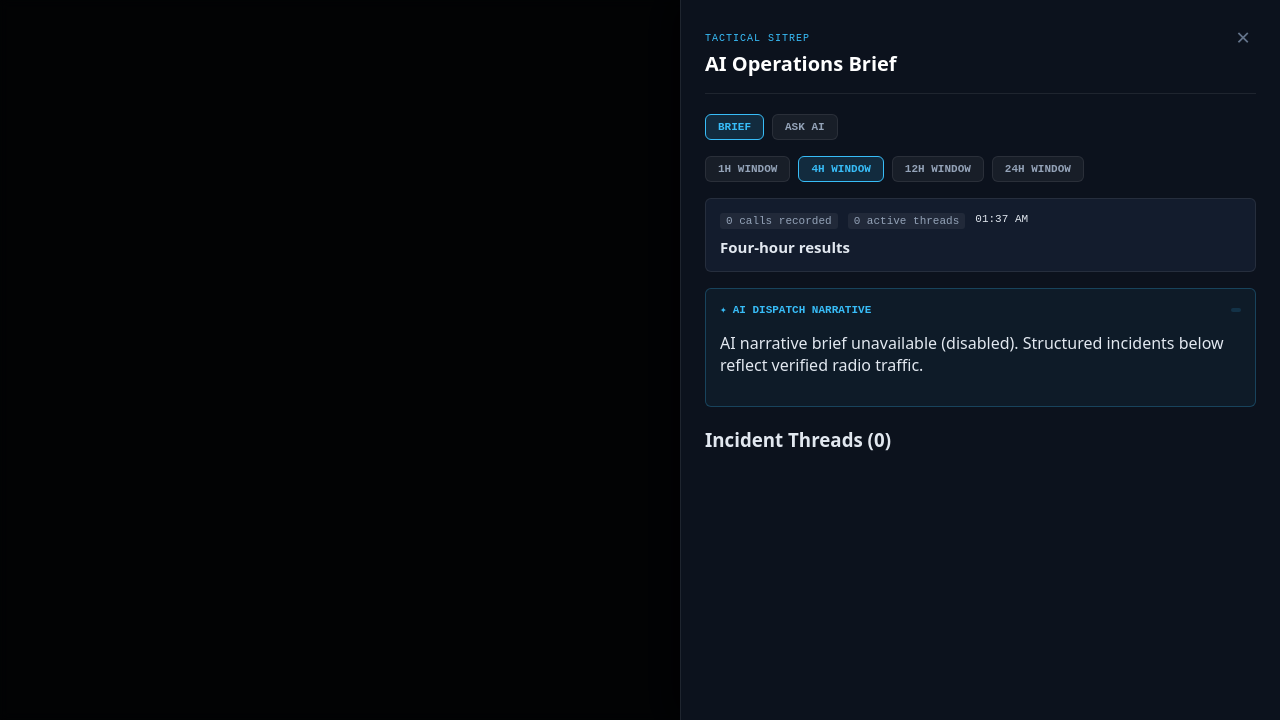
Test: clears the old brief when another window fails and allows retry
Expected: the text "Four-hour results" is shown, [720,237,850,257]
Step 1. Click the button "1H WINDOW" → (748, 169), box [705,156,790,182]
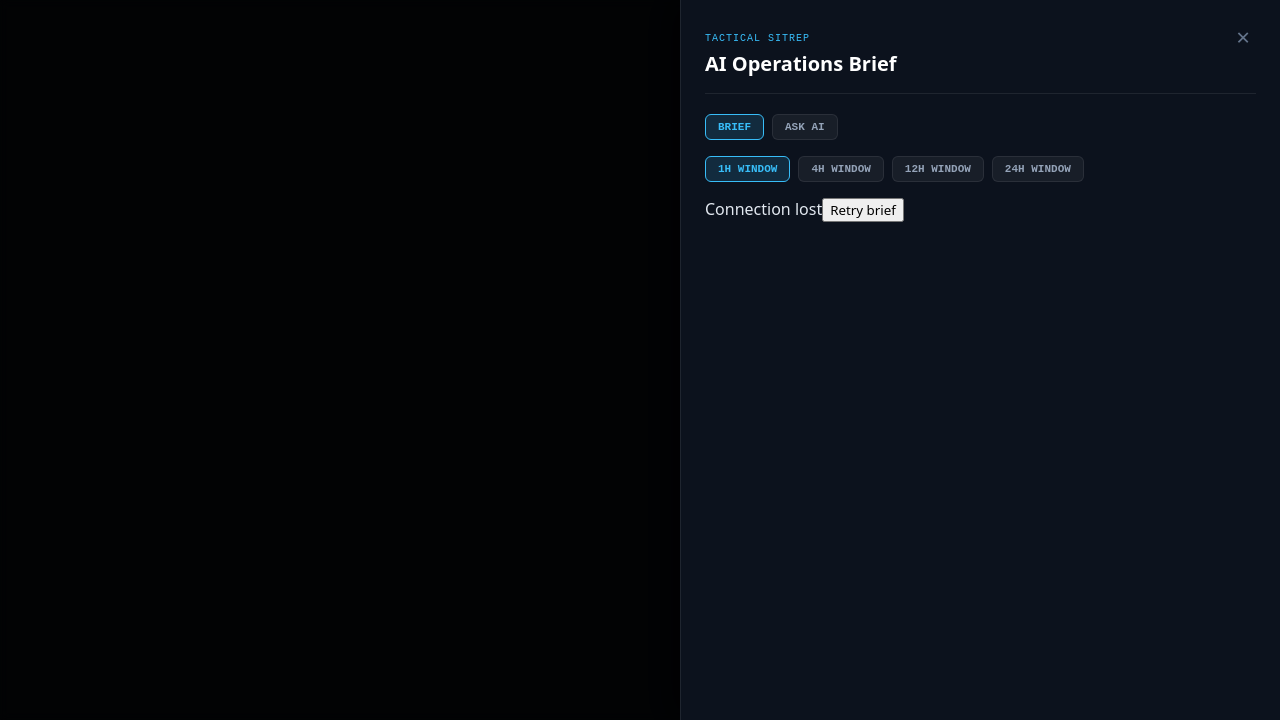
Expected: the message "Connection lost Retry brief" is shown, [705,198,904,222]
Expected: the text "Four-hour results" is gone
Step 2. Click the button "Retry brief" → (863, 210), box [822,198,904,222]
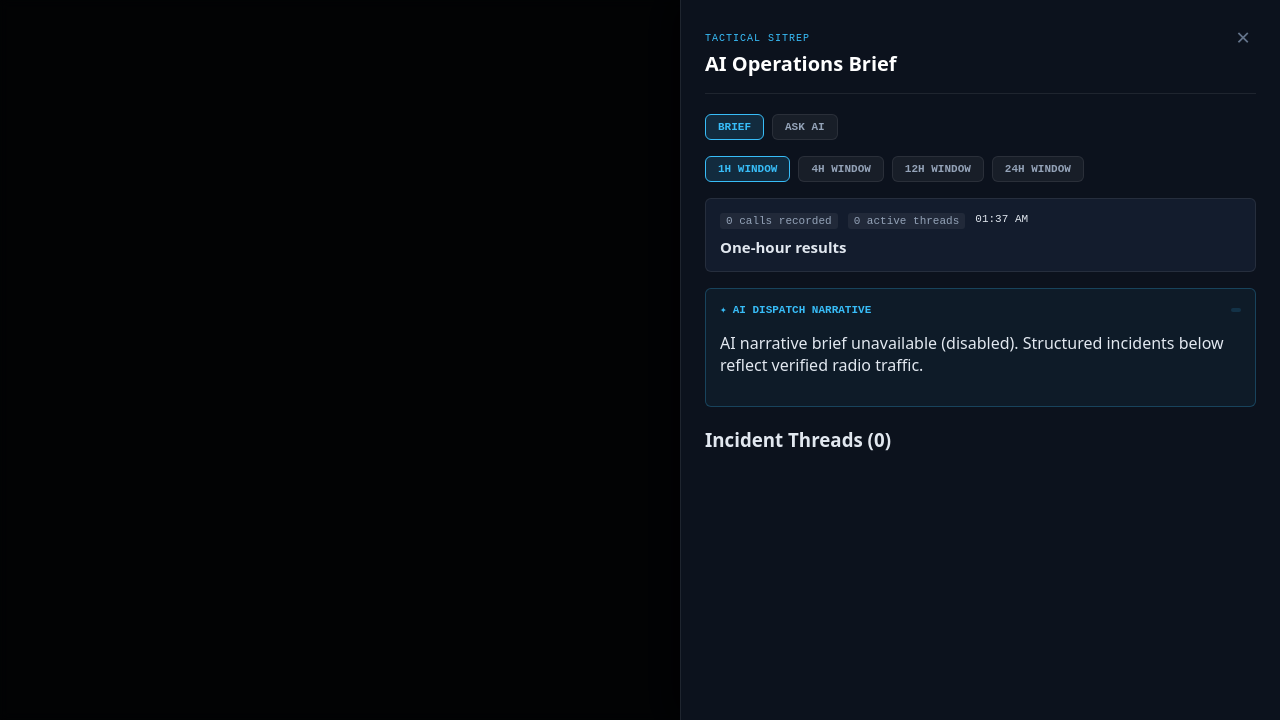
Expected: the text "One-hour results" is shown, [720,237,846,257]
